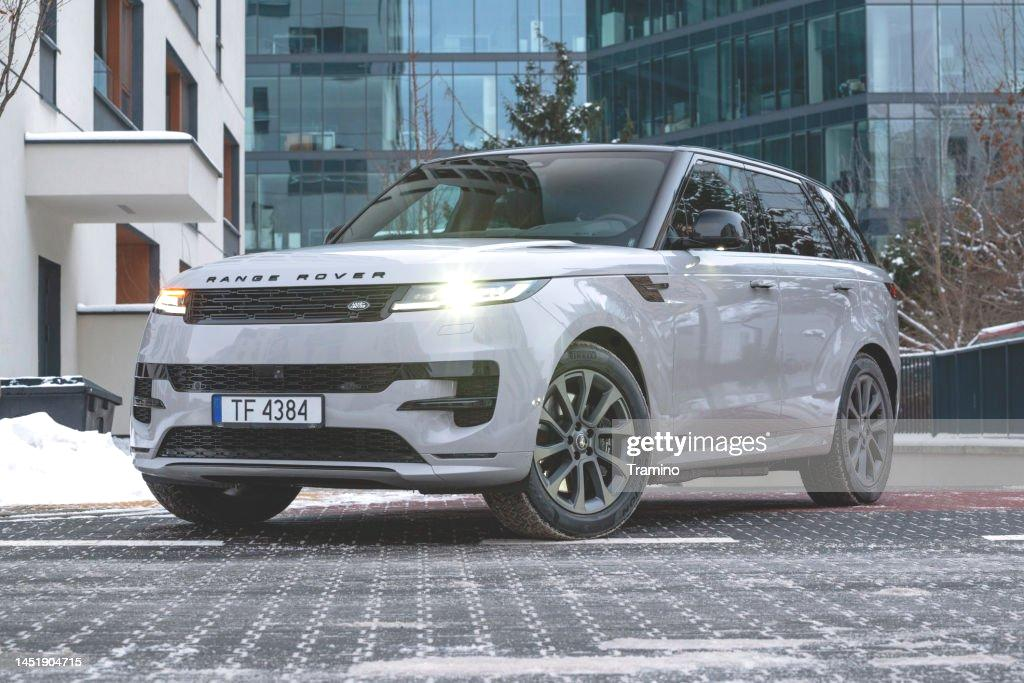range rover: (202, 263, 402, 289)
